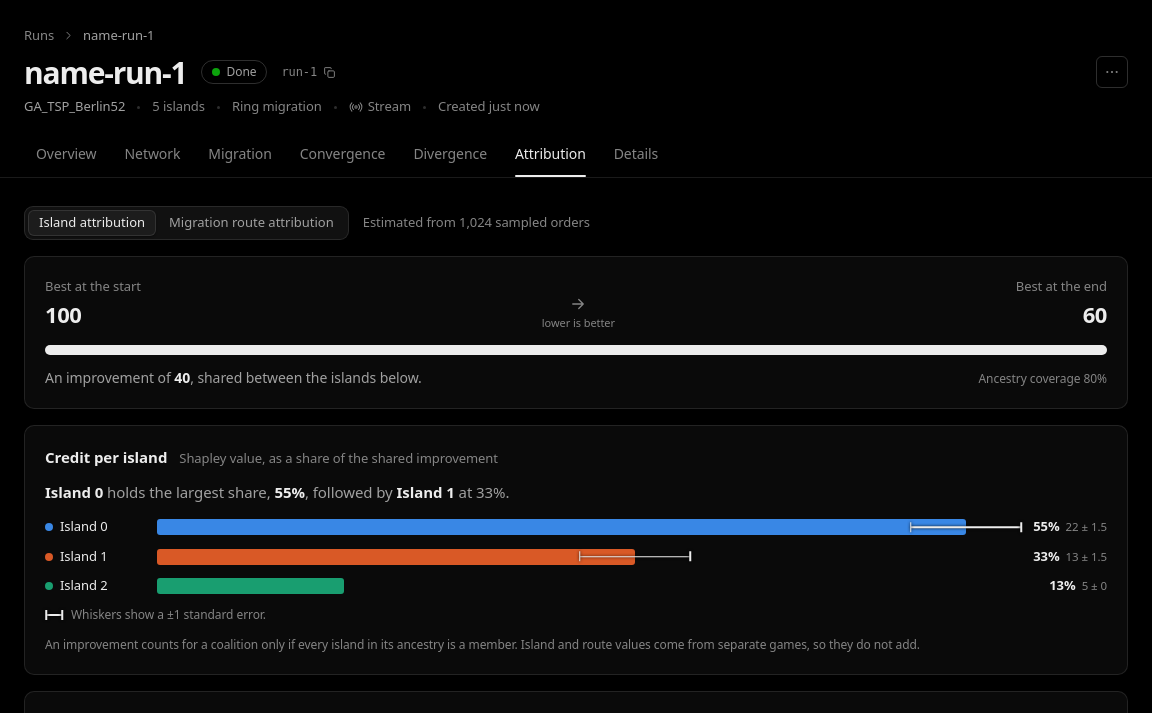
Test: AttributionTab › shows sampled credit with whiskers for positive standard errors and explains why groups cannot be tried
Expected: the text "22 ± 1.5" is shown, left=1066, top=518, right=1107, bottom=536
Expected: the number of icons with class "credit-error-bar" is 2, left=911, top=526, right=1021, bottom=528; left=580, top=556, right=690, bottom=557
Click the button "Migration route attribution": [251, 223] box left=158, top=210, right=345, bottom=236
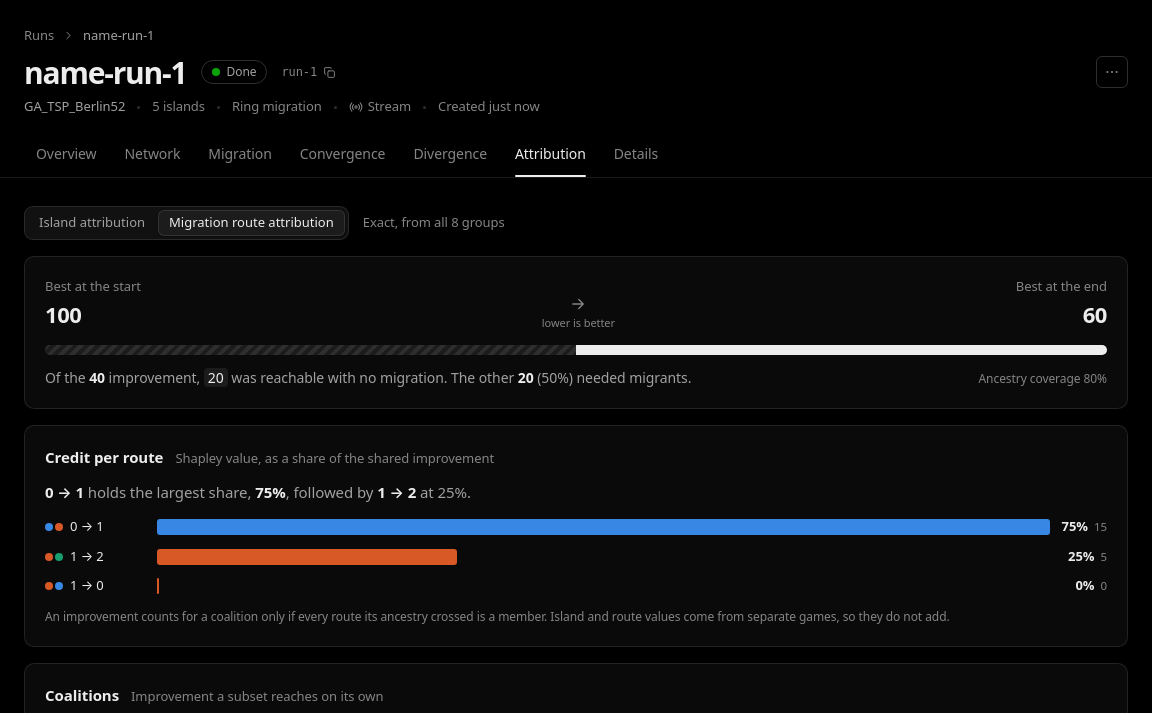
Expected: the icon with class "credit-error-bar" is gone
Expected: the text "Whiskers show a ±1 standard error." is gone
